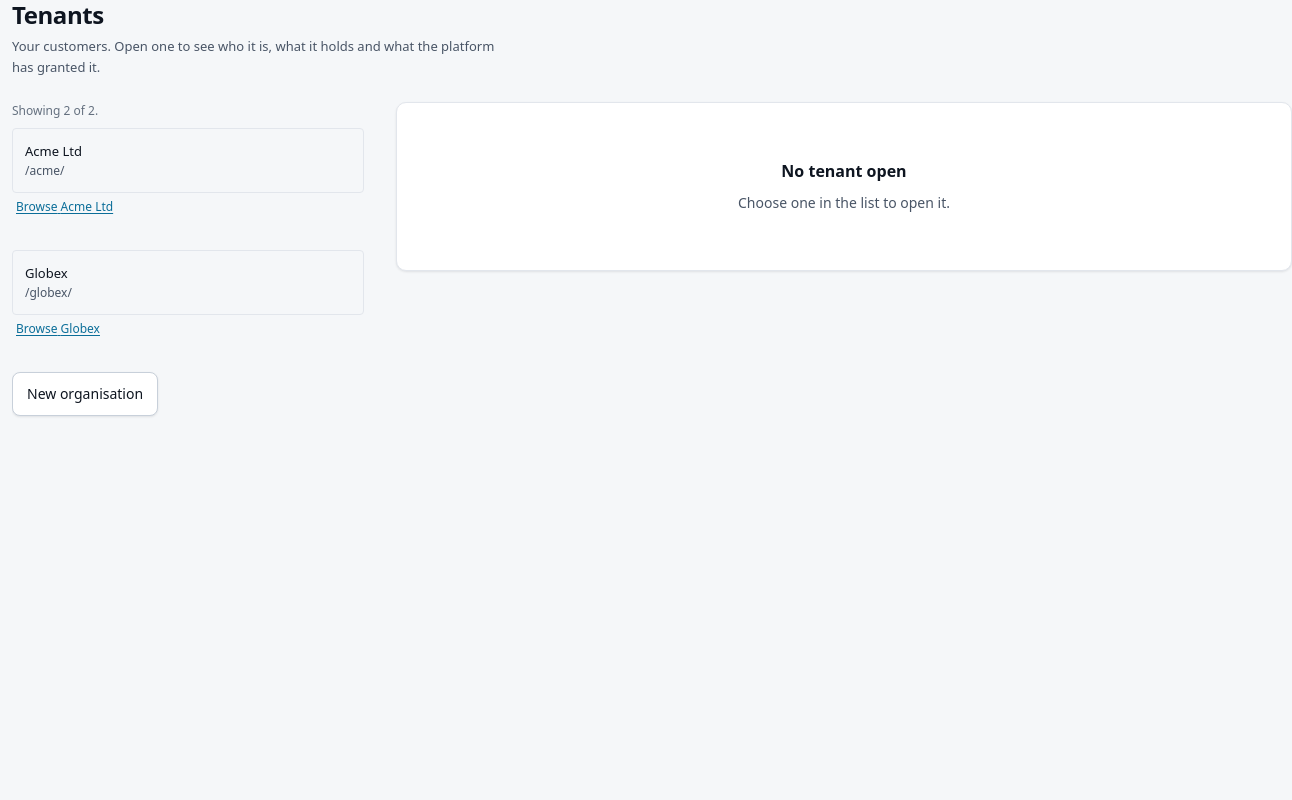
opening a tenant › puts it in the URL, so a handover is a link
Click the button "Acme Ltd /acme/".
click(53, 151)  # box x1=12 y1=128 x2=364 y2=193
(page scrolled)
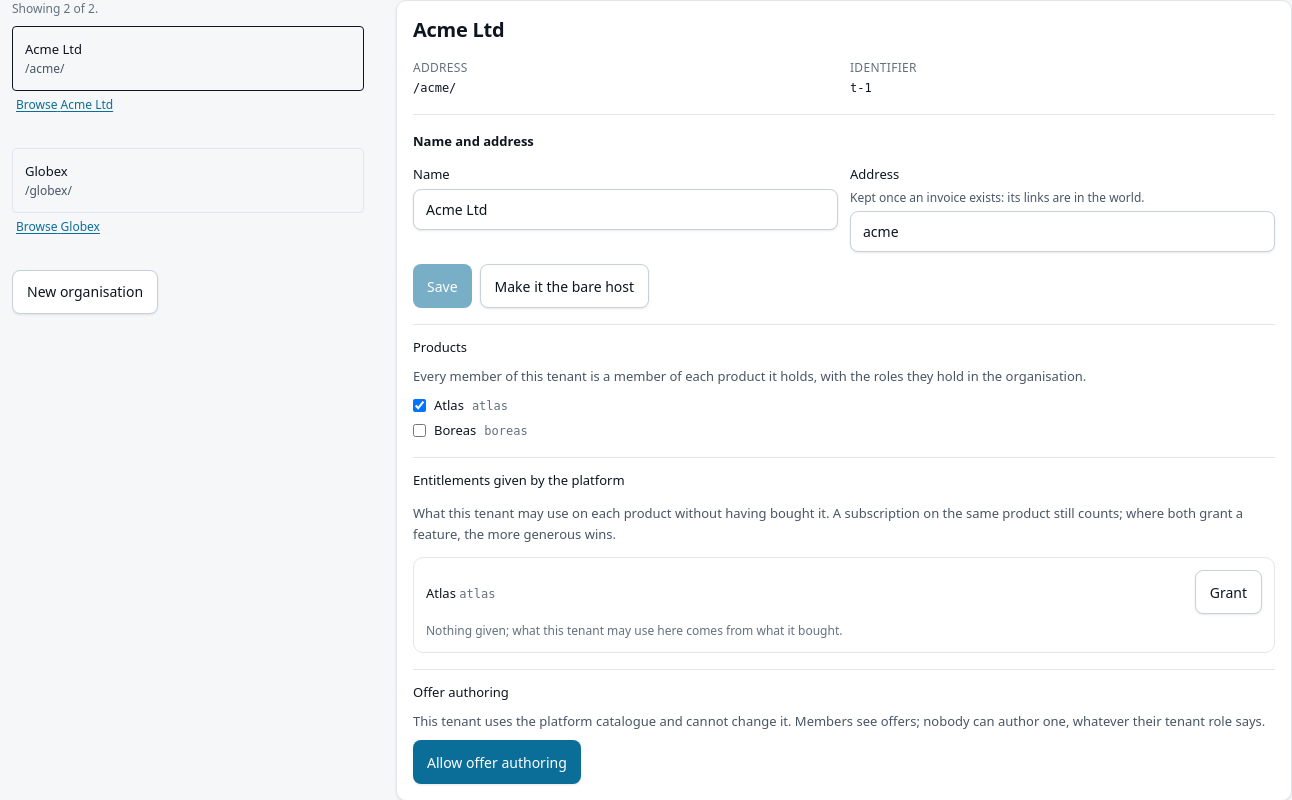
Check: the element with test id "tenant-detail" is shown
